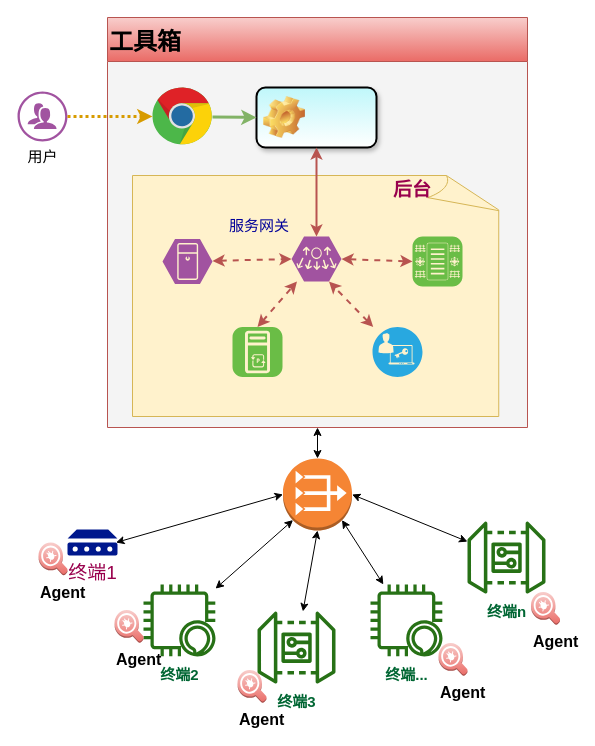
The diagram is 595 pixels wide and 746 high, and some of its shapes have lost their labels. The centre of each missing label's shape, as x and y in pixels:
"前端" belongs at pixel 317 118.
"浏览器" belongs at pixel 182 116.
"用户认证服务" belongs at pixel 397 351.
"系统日志服务" belongs at pixel 437 261.
"设备指纹管理" belongs at pixel 187 261.
"设备认证服务" belongs at pixel 257 351.
"路由/网关" belongs at pixel 317 494.
